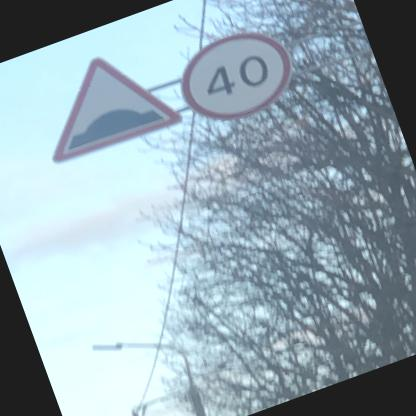speedlimit: (166, 17, 300, 132)
